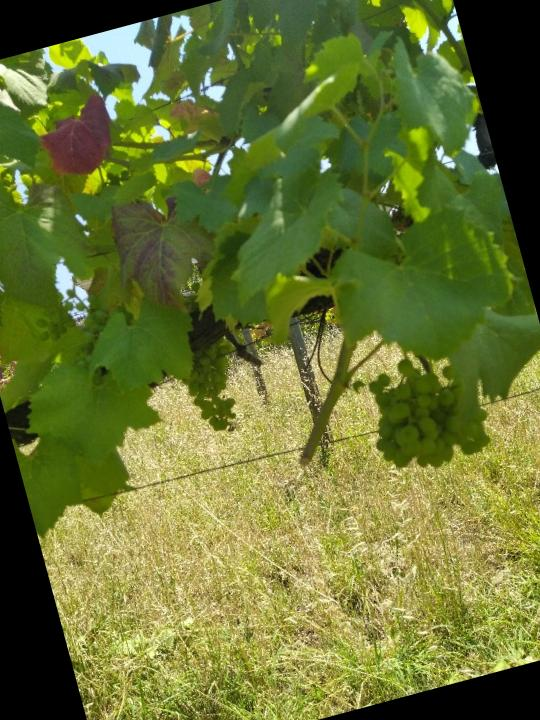grape: (353, 342, 500, 485), (173, 335, 257, 449)
